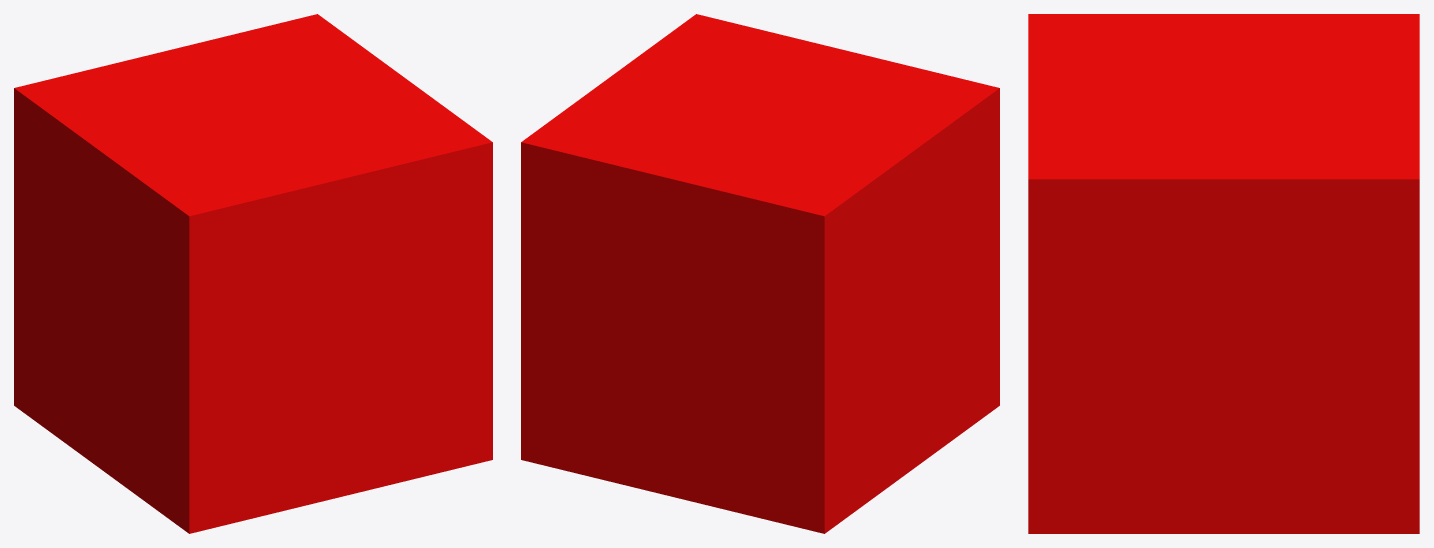
The model's file is redCube.obj.
The picture shows the model from 3 angles, left to right: view 1: azimuth 30°, elevation 25°; view 2: azimuth 150°, elevation 25°; view 3: azimuth 270°, elevation 25°; orthographic projection. The views are drawn at different scales.
Size of the model in its own units: 1 by 1 by 1.
Materials: 1 (1 with a texture image).
